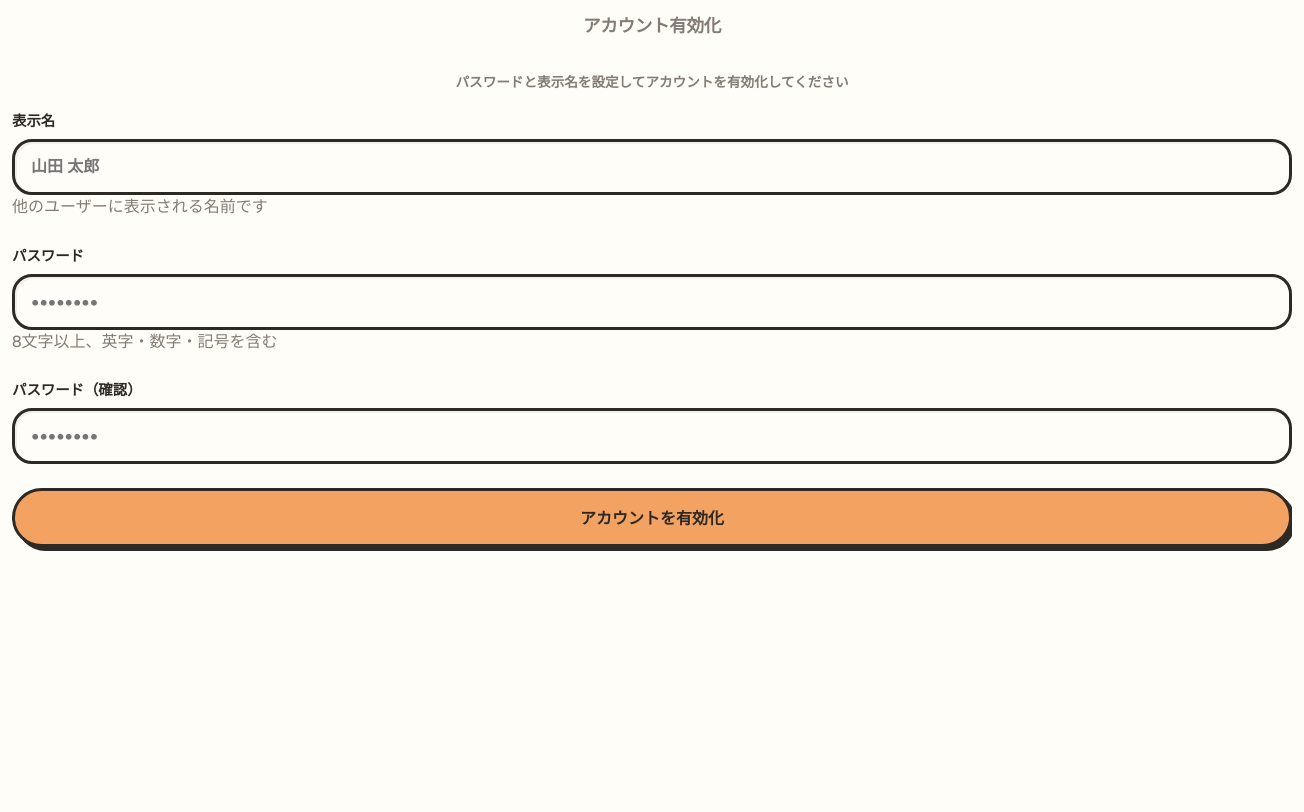
Test: ActivatePage › API › invalid token shows error message
Type "Test" into the field with id "displayName" at (652, 167), box [12,139,1292,195]
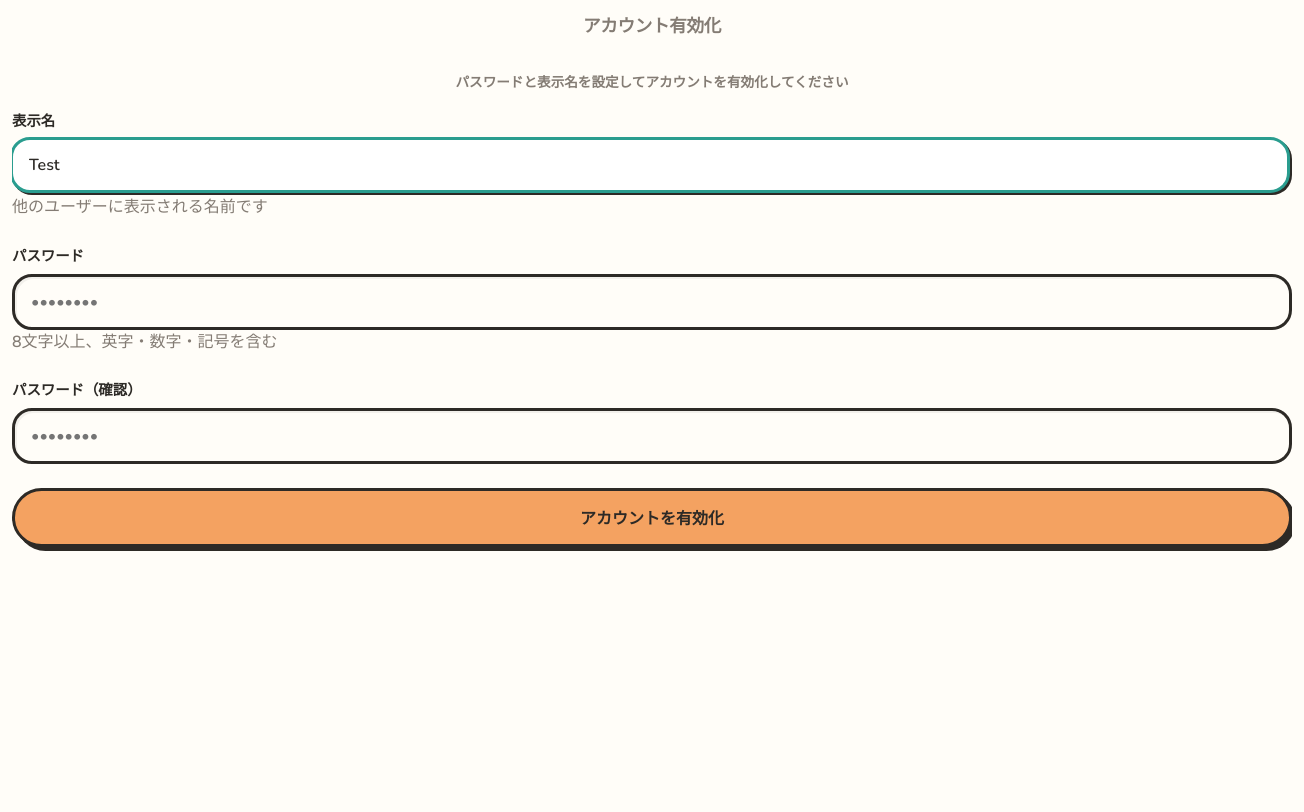
Type "Abcdef1!" into the password field labelled "パスワード" at (652, 302), box [12,274,1292,330]
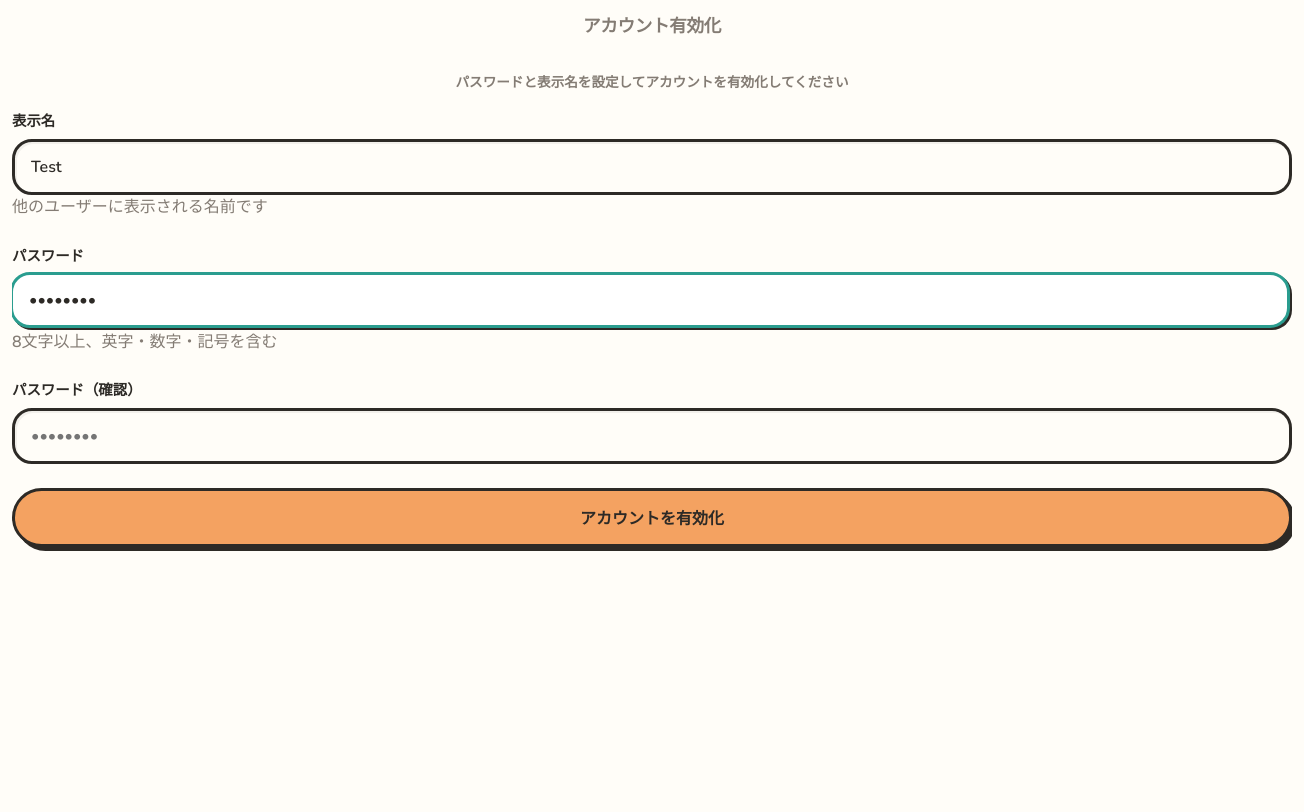
Type "Abcdef1!" into the password field labelled "パスワード（確認）" at (652, 436), box [12,408,1292,464]
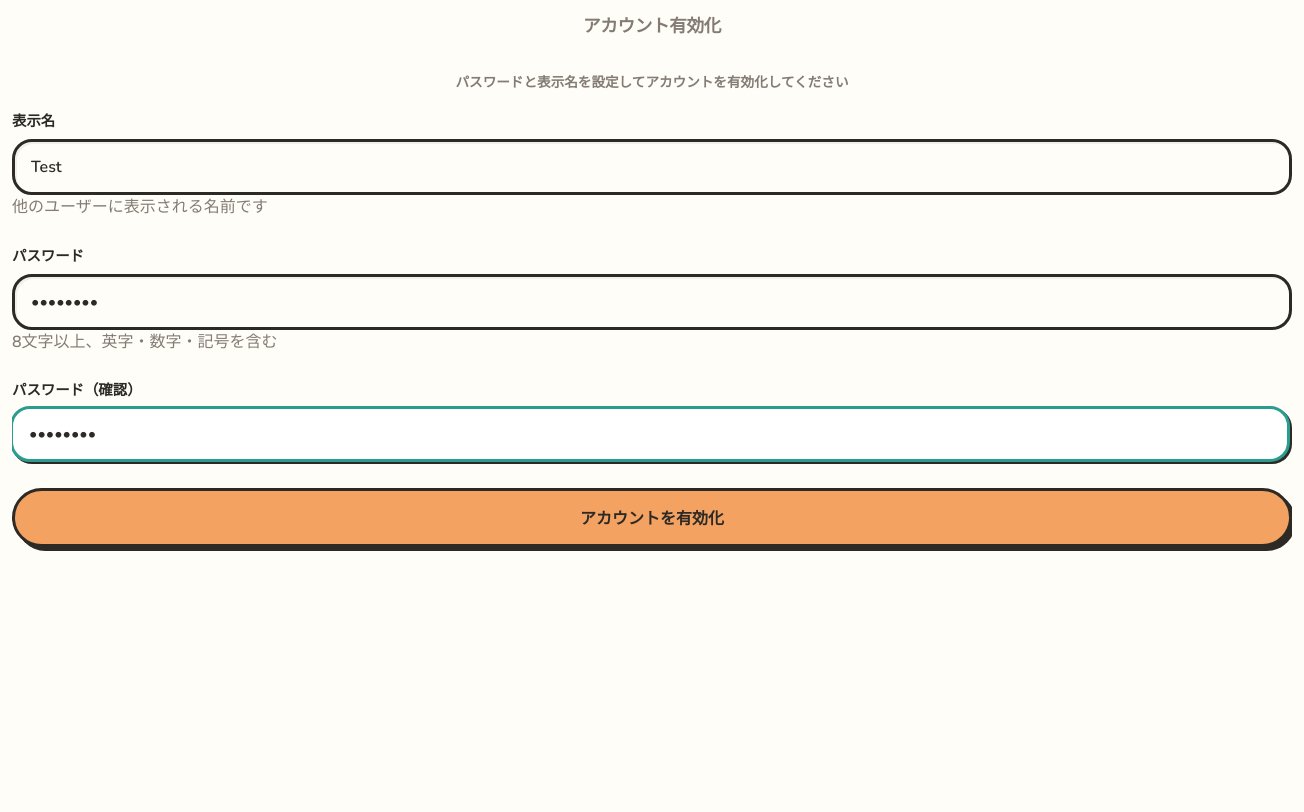
Click the button "アカウントを有効化" at (652, 518), box [12,488,1292,547]
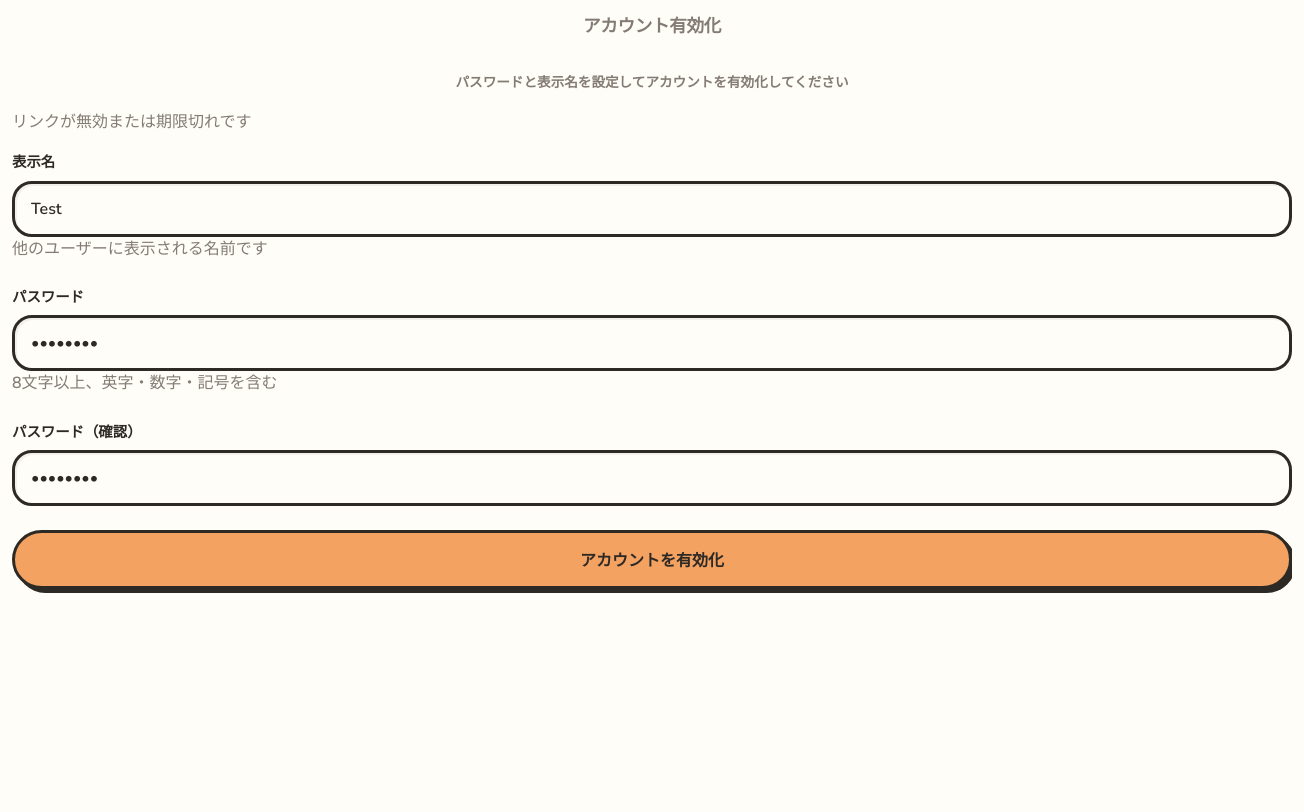
Check: the text "リンクが無効または期限切れです" is shown, box [12,111,252,133]
